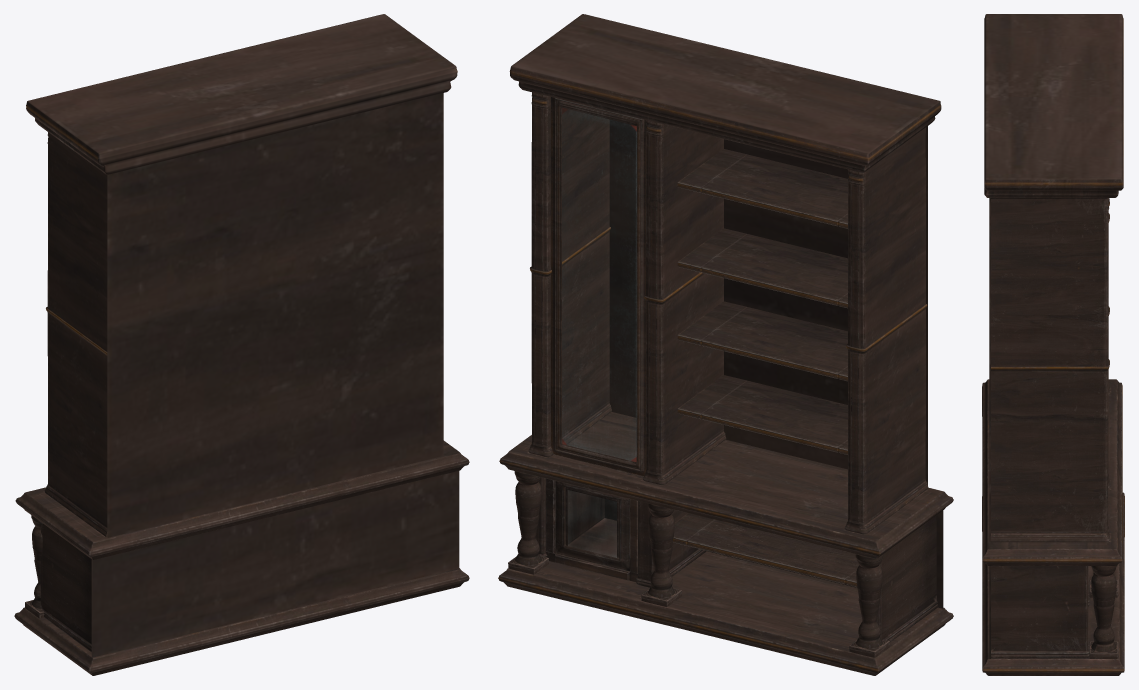
The model's file is mueble 03 GLB.glb.
The picture shows the model from 3 angles, left to right: view 1: azimuth 30°, elevation 25°; view 2: azimuth 150°, elevation 25°; view 3: azimuth 270°, elevation 25°; orthographic projection. The views are drawn at different scales.
Parts seen in each view (by area): view 1: Drawer1; view 2: Drawer1 (×2); view 3: Drawer1.
Boxes of the visible parts, left/top/right/bottom form: Drawer1: left=14, top=14, right=469, bottom=675; Drawer1 (×2): left=498, top=14, right=953, bottom=675; Drawer1: left=982, top=14, right=1124, bottom=675.
Size of the model in its own units: 1.53 by 2 by 0.5225.
Materials: 2 (2 with a texture image).
